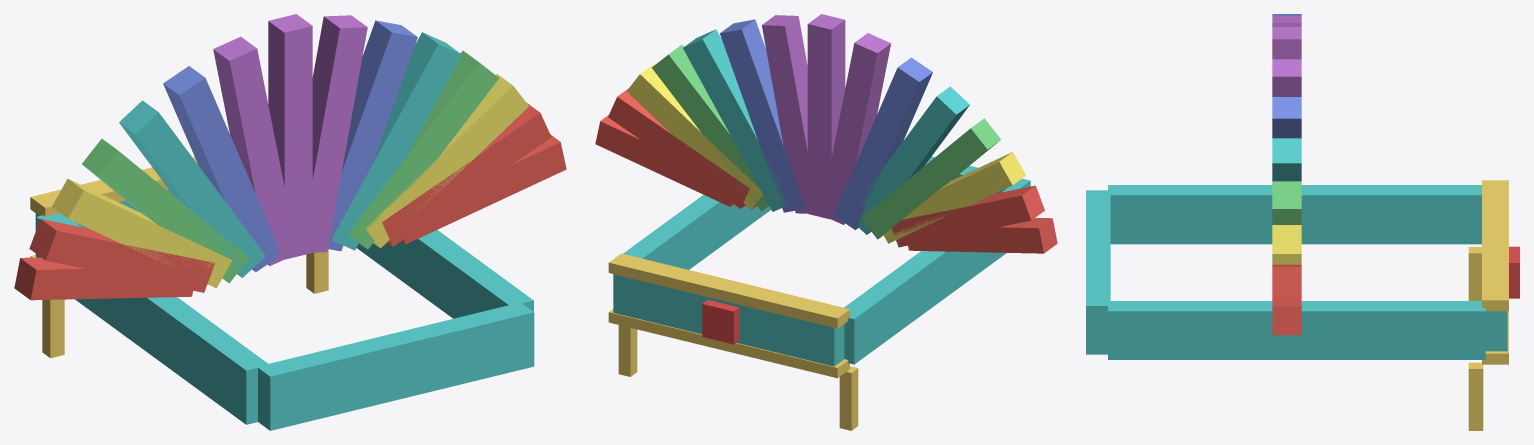
Rendered from cocar_grande_penas.glb.
3 renders of one model, left to right at view 1: azimuth 30°, elevation 25°; view 2: azimuth 150°, elevation 25°; view 3: azimuth 270°, elevation 25°, orthographic. The views are drawn at different scales.
Parts seen in each view (by area): view 1: cocar_grande_penas; view 2: cocar_grande_penas; view 3: cocar_grande_penas.
Boxes of the visible parts, <box> form: cocar_grande_penas: <box>14,14,566,430</box>; cocar_grande_penas: <box>595,14,1057,430</box>; cocar_grande_penas: <box>1086,14,1519,430</box>.
Bounding box in the file's own units: 1.14 × 0.76 × 0.887.
